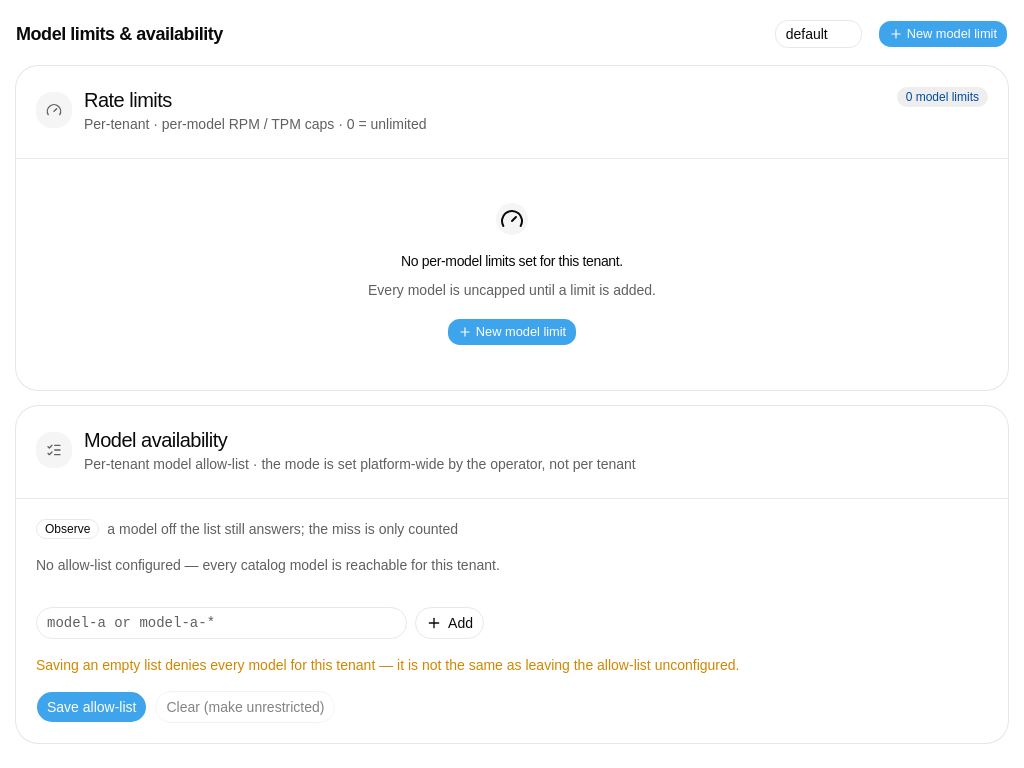
Test: create and edit › creates a limit and PUTs model, rpm and tpm
Click the button "New model limit" in the row of "Model limits & availability" at (943, 34), box top-left (878, 20), bottom-right (1008, 48)
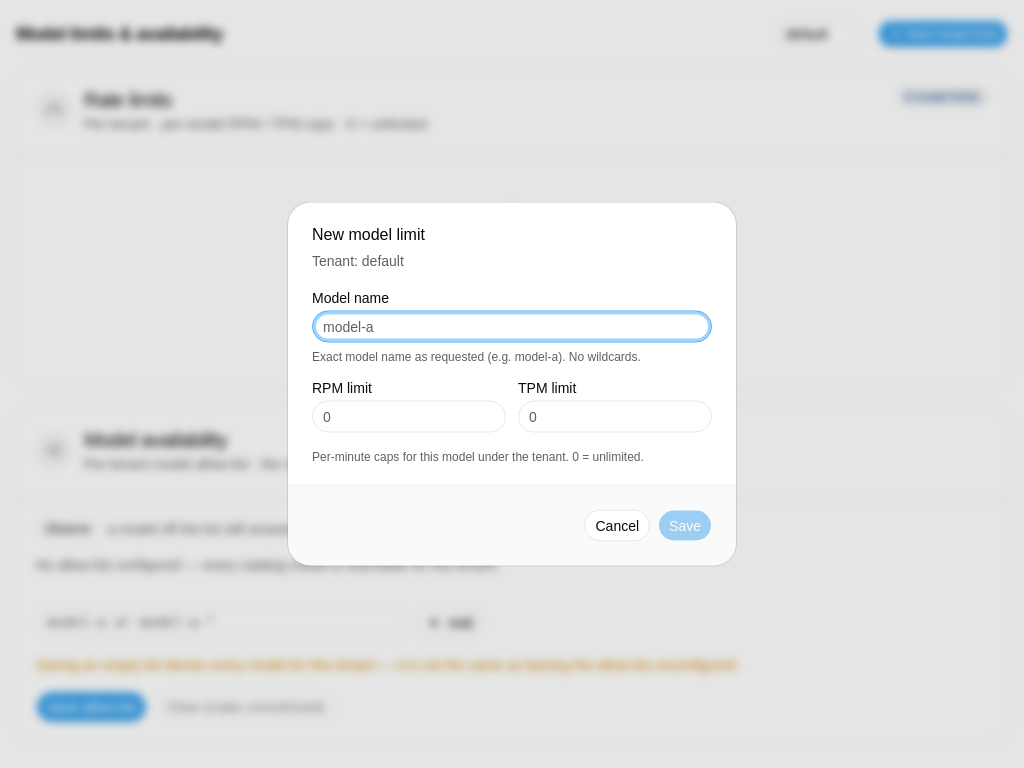
Type "model-b" into the field labelled "Model name" at (512, 326), box top-left (312, 310), bottom-right (712, 342)
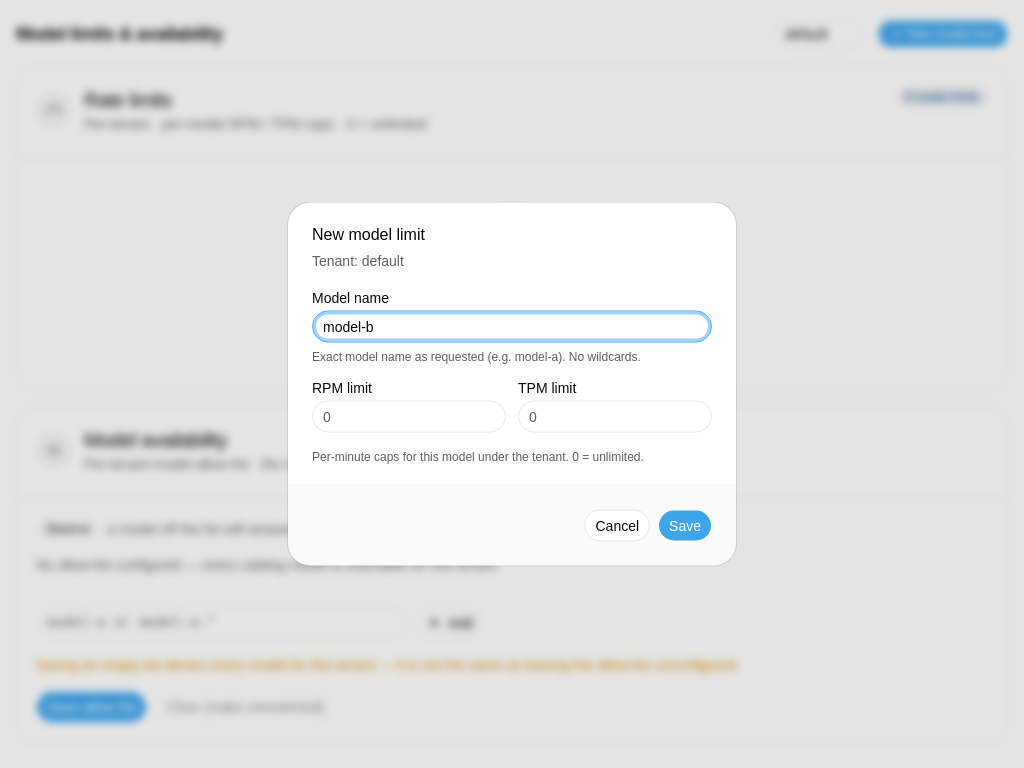
Type "120" into the number field labelled "RPM limit" at (409, 416), box top-left (312, 400), bottom-right (506, 432)
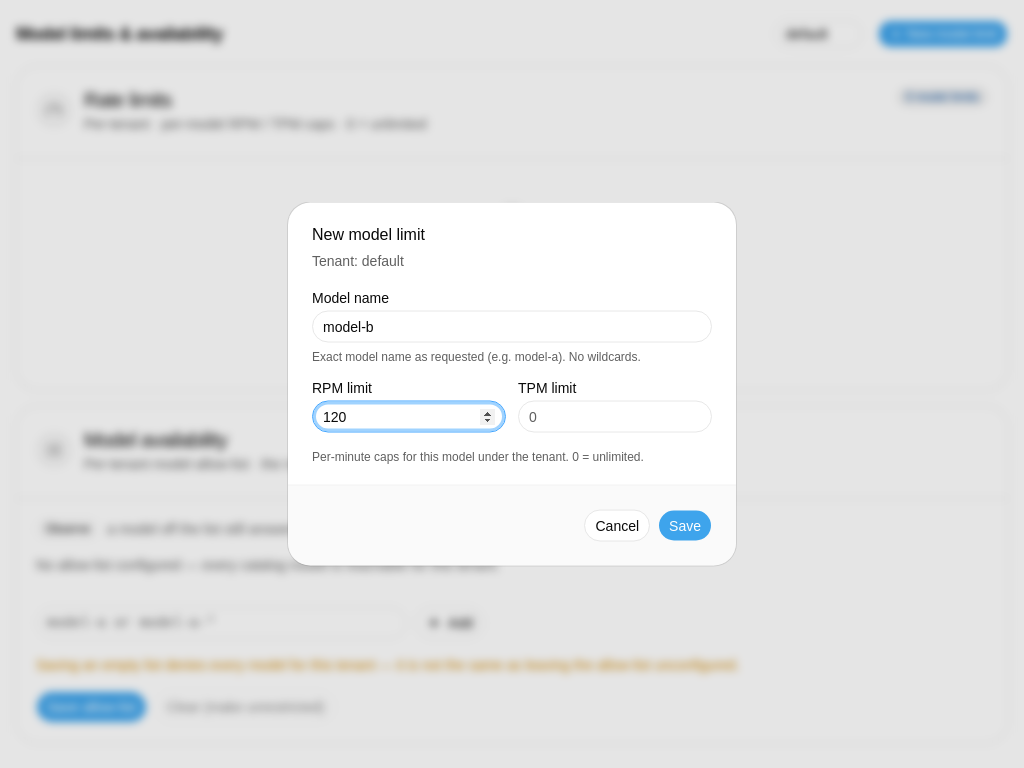
Type "4000" into the number field labelled "TPM limit" at (615, 416), box top-left (518, 400), bottom-right (712, 432)
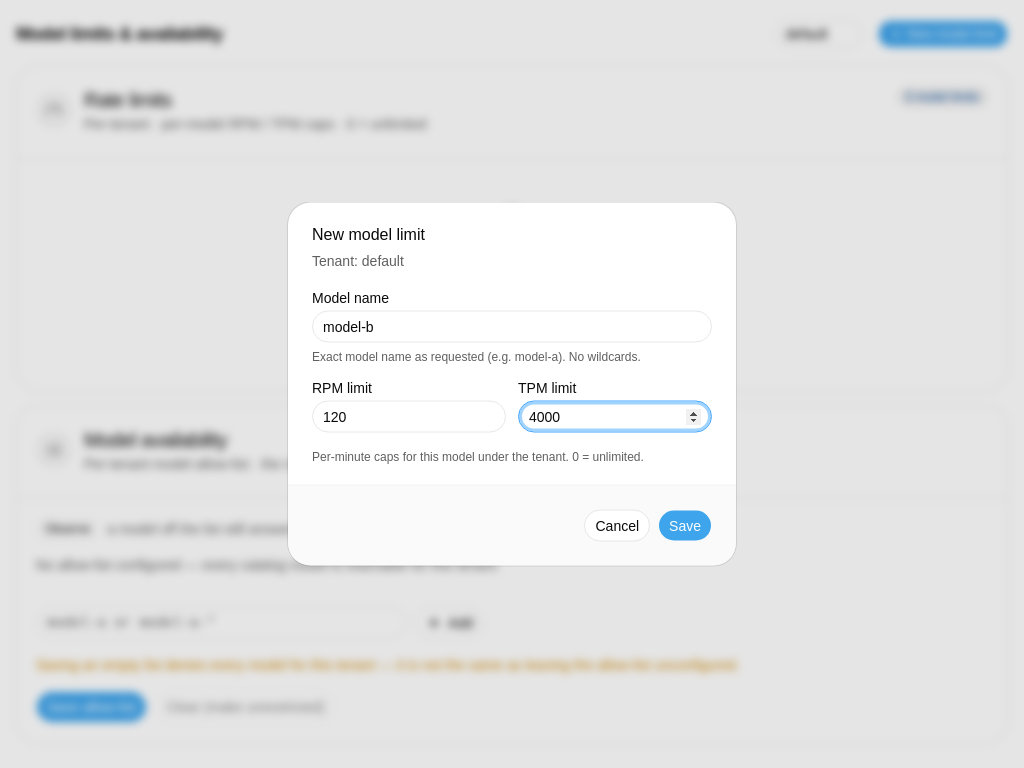
Click the button "Save" at (685, 526), box top-left (658, 510), bottom-right (712, 542)
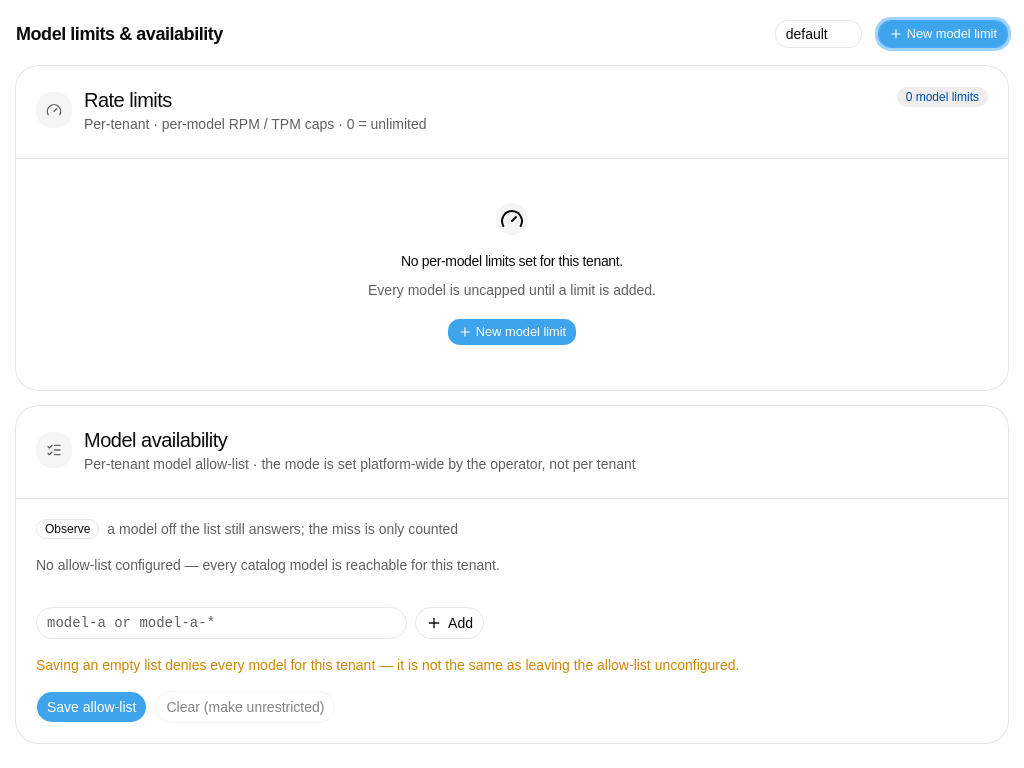
Result: the dialog is gone
